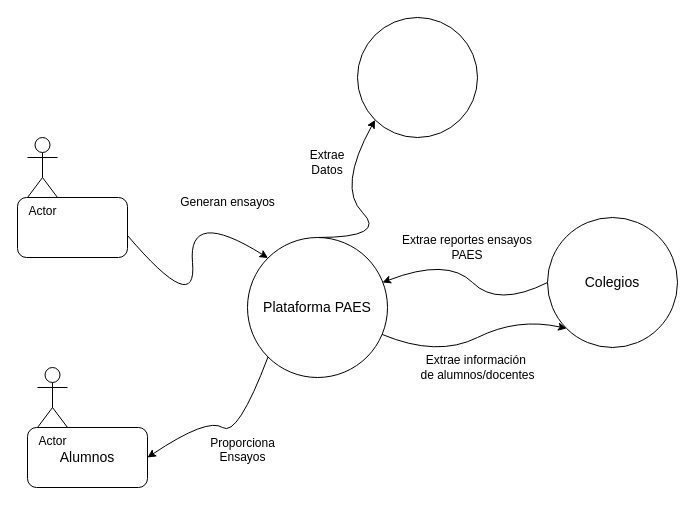
The diagram is 695 pixels wide and 505 high, and some of its shapes have lost their labels. Each missing label, with the centre of its shape:
"Data Warehouse" goes at pixel 417 77.
"Docentes" goes at pixel 72 227.
